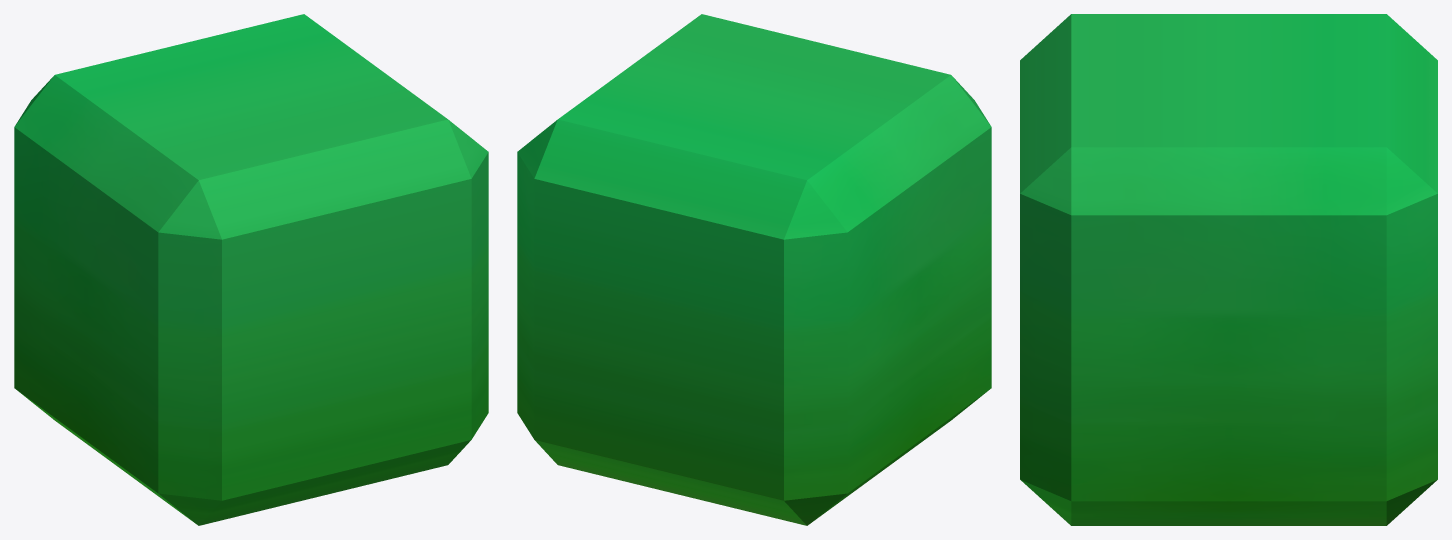
File: bc41c1ac-9bf3-4fad-ba5d-a34559a3c8a9.glb
The picture shows the model from 3 angles, left to right: view 1: azimuth 30°, elevation 25°; view 2: azimuth 150°, elevation 25°; view 3: azimuth 270°, elevation 25°; orthographic projection. The views are drawn at different scales.
Visible parts, largest first — view 1: CyberPunkCubeShapeA.006; view 2: CyberPunkCubeShapeA.006; view 3: CyberPunkCubeShapeA.006.
Part boxes in pixels (x1,y1,x2,y2): CyberPunkCubeShapeA.006: (14,14,488,525); CyberPunkCubeShapeA.006: (517,14,991,525); CyberPunkCubeShapeA.006: (1020,14,1437,525).
Size of what is drawn, in the model's own units: 0.7462 by 0.7462 by 0.7462.
1 material, 1 textured.
